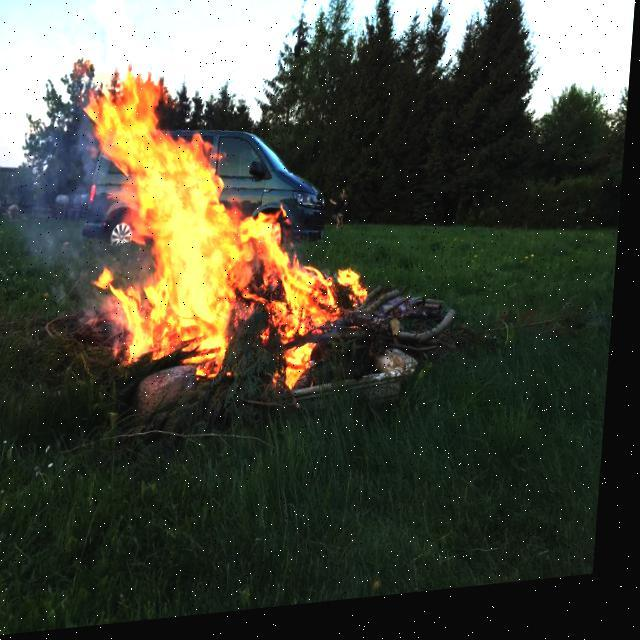Fire: (21, 0, 387, 406)
